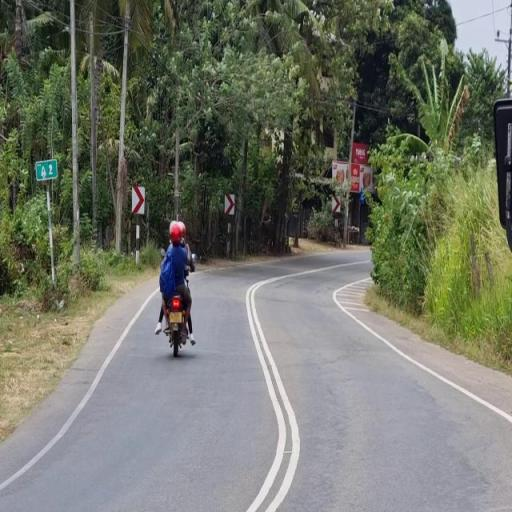double_white_line: (243, 274, 300, 512)
